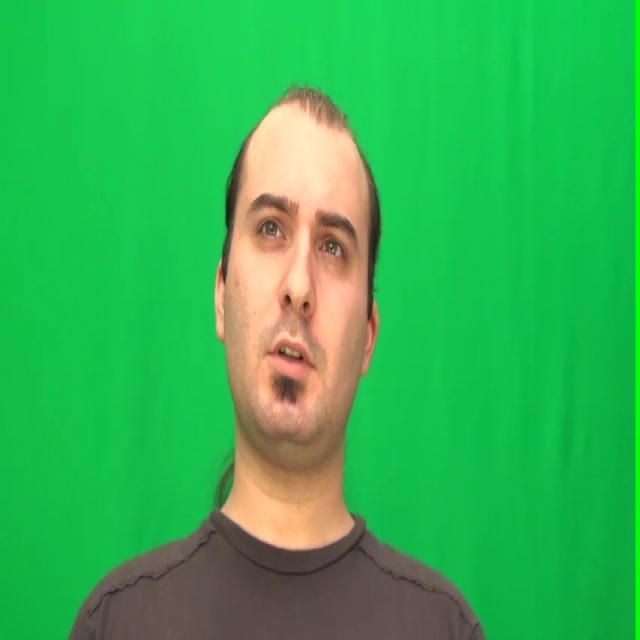Engaged: (223, 102, 369, 450)
